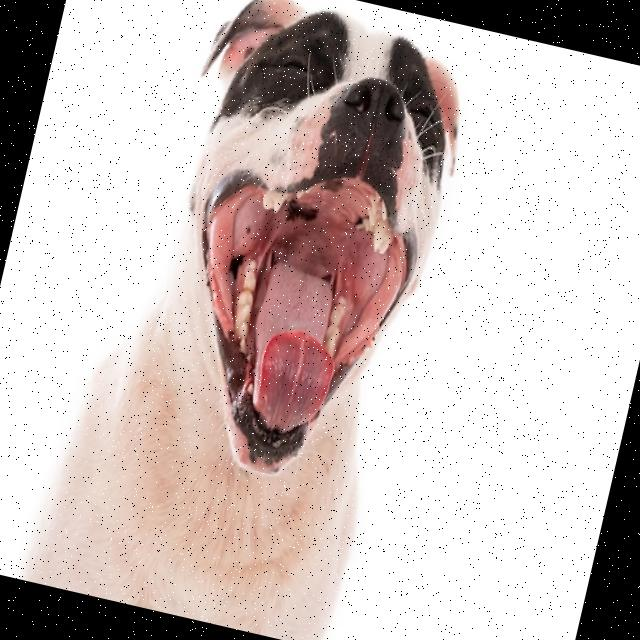Dog: (18, 0, 484, 640)
